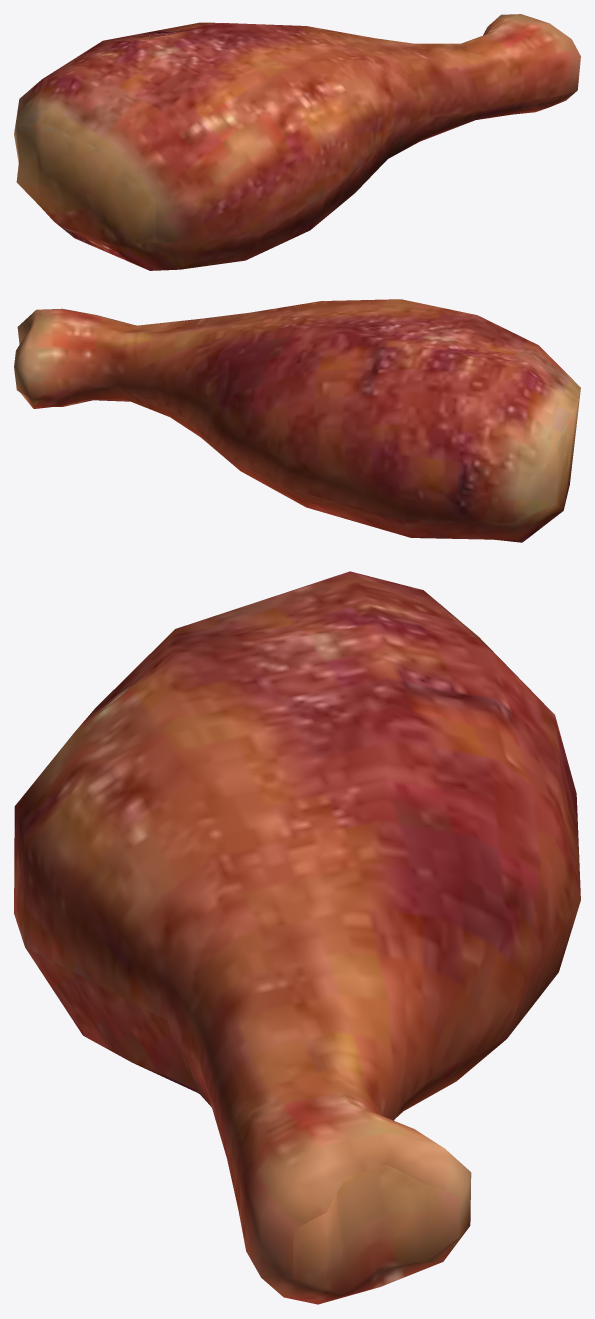
File: Chicken_leg.FBX
3 views of the same model, one above another, from view 1: azimuth 30°, elevation 25°; view 2: azimuth 150°, elevation 25°; view 3: azimuth 270°, elevation 25° (orthographic). The views are drawn at different scales.
Visible parts, largest first — view 1: Chicken_leg; view 2: Chicken_leg; view 3: Chicken_leg.
Part boxes in pixels (bbox=[...]): Chicken_leg: bbox=[14, 14, 580, 270]; Chicken_leg: bbox=[14, 299, 580, 542]; Chicken_leg: bbox=[14, 571, 580, 1304].
Bounding box in the file's own units: 27.88 × 9.05 × 12.8.
